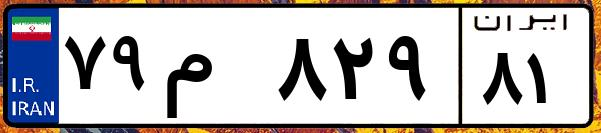1: (525, 38, 570, 115)
2: (330, 28, 385, 110)
7: (57, 26, 110, 100)
8: (270, 28, 330, 110), (475, 38, 525, 113)
9: (385, 28, 445, 110), (110, 28, 158, 98)
م: (158, 20, 270, 120)
